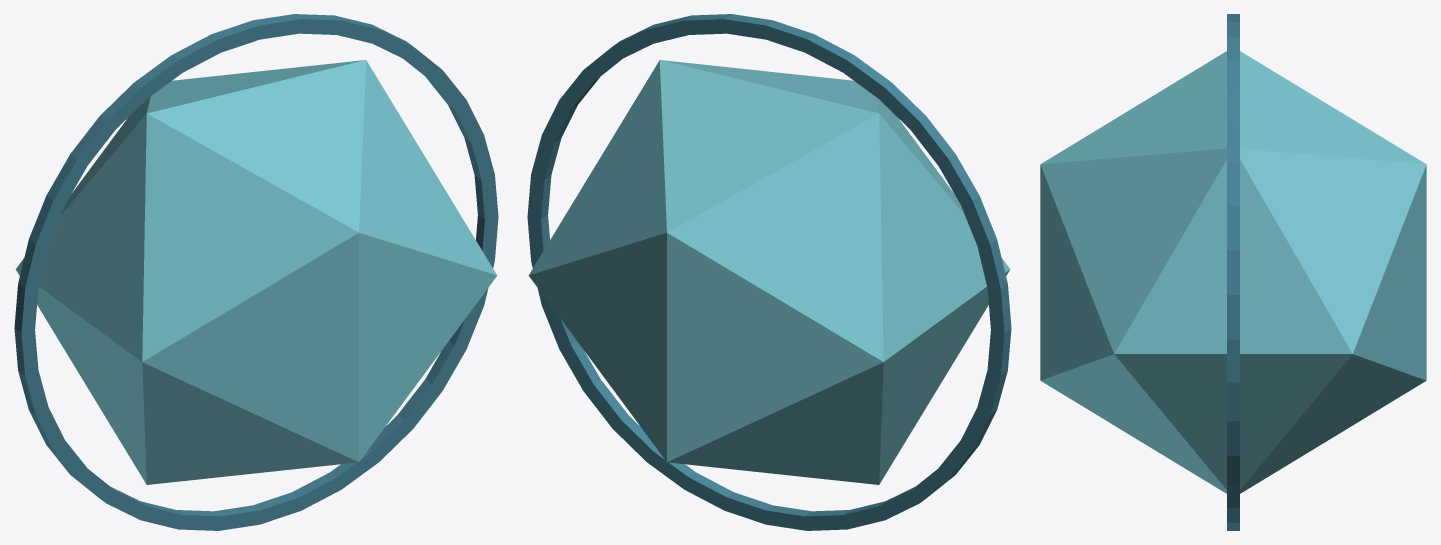
The model's file is nexus-core.glb.
3 renders of one model, left to right at view 1: azimuth 30°, elevation 25°; view 2: azimuth 150°, elevation 25°; view 3: azimuth 270°, elevation 25°, orthographic. The views are drawn at different scales.
Visible parts, largest first — view 1: nexus-crystal, orbit-ring; view 2: nexus-crystal, orbit-ring; view 3: nexus-crystal, orbit-ring.
Part boxes in pixels (x1,y1,x2,y2): nexus-crystal: (15,60,497,484); orbit-ring: (14,14,498,530); nexus-crystal: (528,60,1010,484); orbit-ring: (527,14,1011,530); nexus-crystal: (1040,51,1426,493); orbit-ring: (1227,14,1239,530).
Size of the model in its own units: 1.76 by 1.76 by 1.31.
